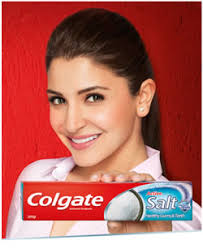gooday-medium: (21, 179, 194, 221)
